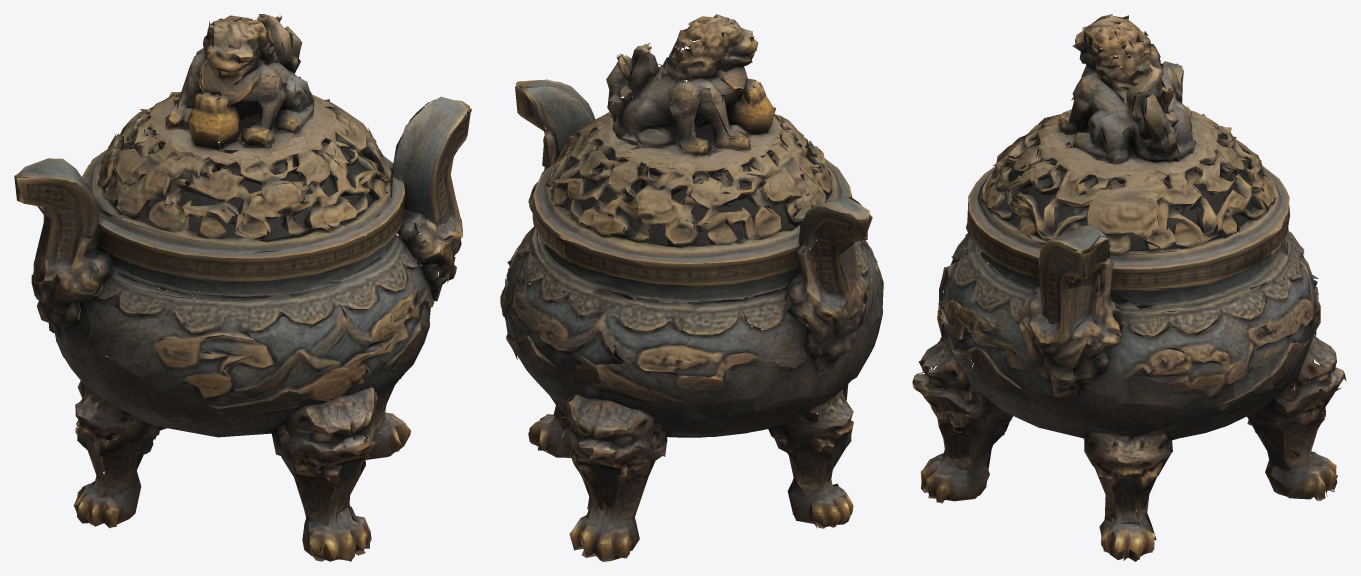
Rendered from B3-incense-burner.glb.
The picture shows the model from 3 angles, left to right: view 1: azimuth 30°, elevation 25°; view 2: azimuth 150°, elevation 25°; view 3: azimuth 270°, elevation 25°; orthographic projection. The views are drawn at different scales.
Parts seen in each view (by area): view 1: Prop_B3; view 2: Prop_B3; view 3: Prop_B3.
Boxes of the visible parts, bbox=[...] form: Prop_B3: bbox=[14, 14, 471, 561]; Prop_B3: bbox=[500, 14, 883, 561]; Prop_B3: bbox=[912, 14, 1346, 561].
Size of the model in its own units: 0.9126 by 1.01 by 0.8602.
Materials: 1 (1 with a texture image).
